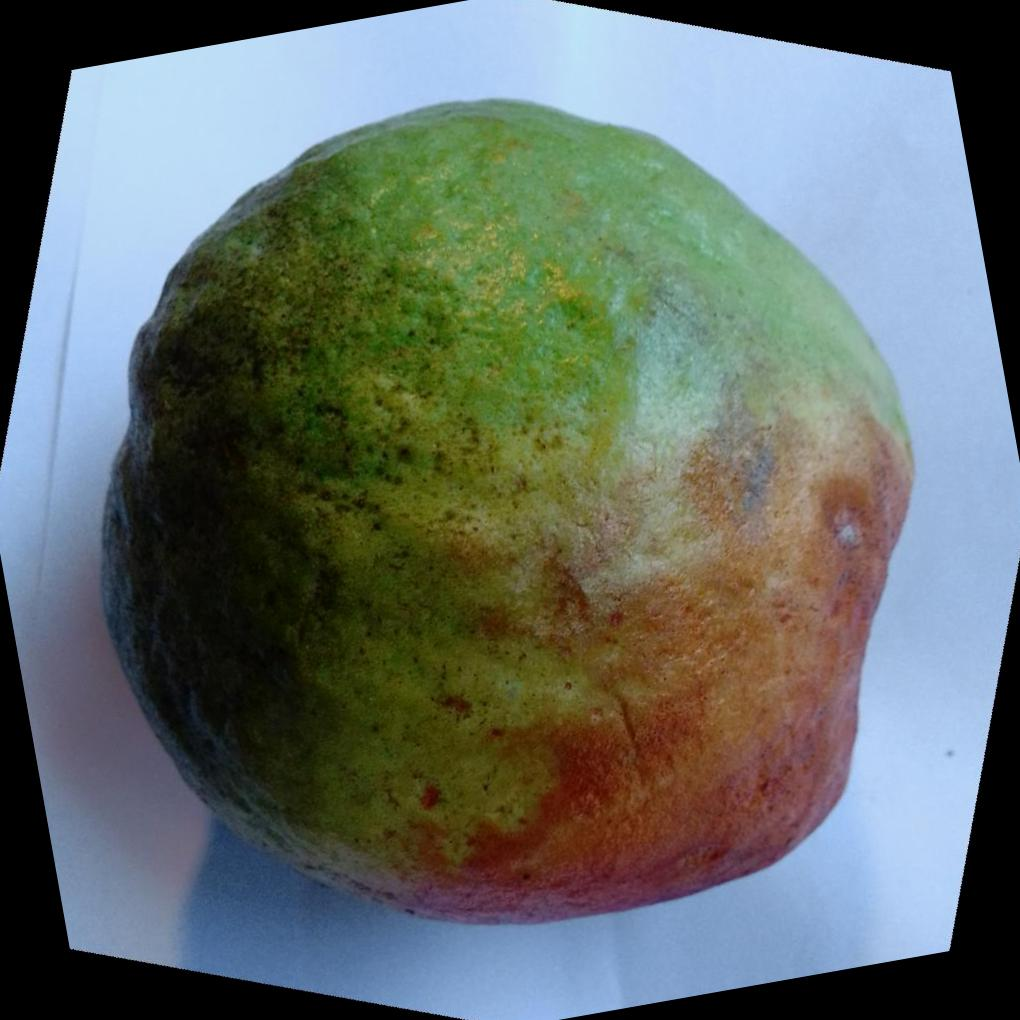FreshOrange: (96, 98, 916, 930)
